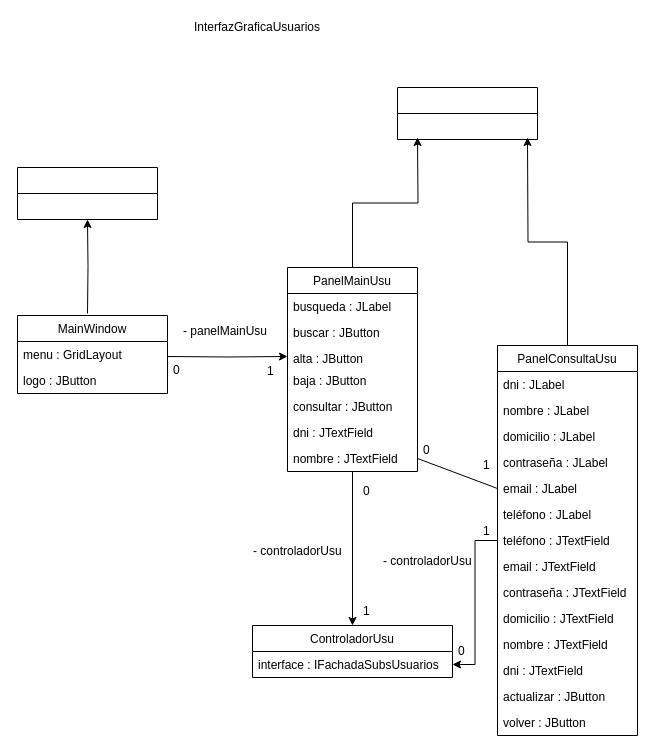
The diagram is 655 pixels wide and 755 high, and some of its shapes have lost their labels. The shapes that lost their labels are listed below. From the top down, each one's centre as x and y in pixels, then its label:
the point at 467,113: JPanel
the point at 87,193: JFrame
